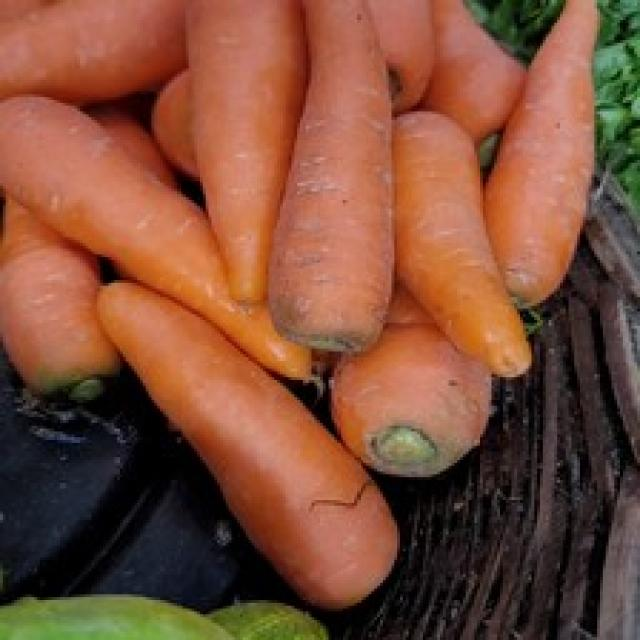Fresh_Carrot: (183, 3, 280, 194)
